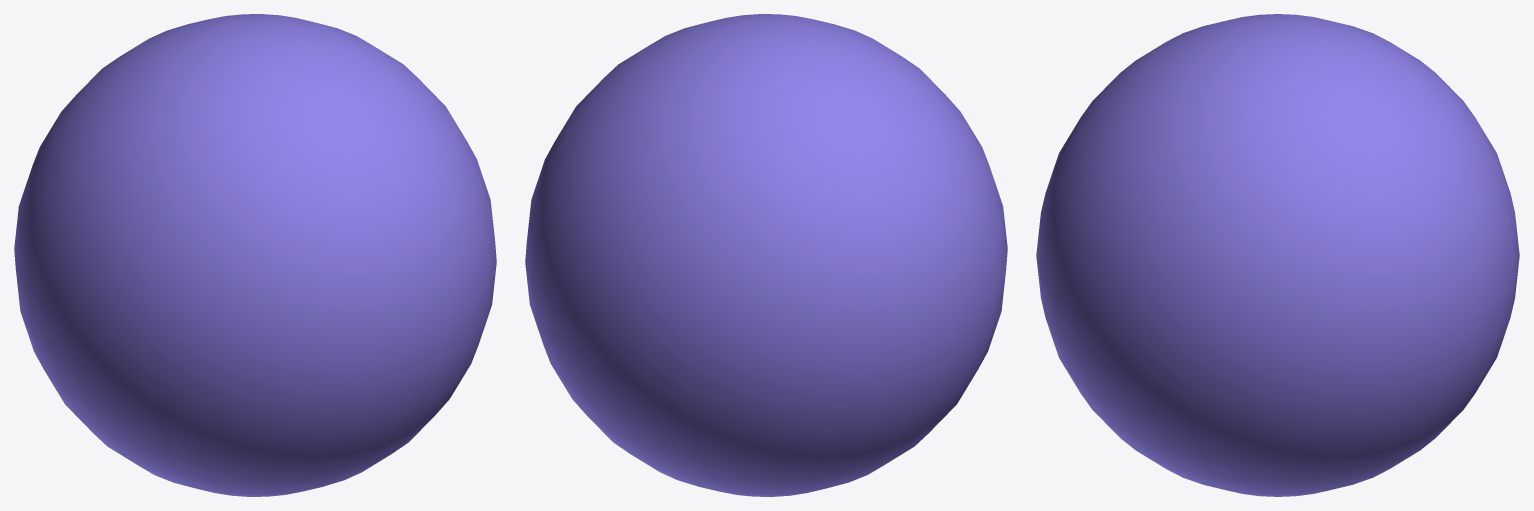
3 views of the same model, side by side, from view 1: azimuth 30°, elevation 25°; view 2: azimuth 150°, elevation 25°; view 3: azimuth 270°, elevation 25° (orthographic).
Parts seen in each view (by area): view 1: Sphere; view 2: Sphere; view 3: Sphere.
Boxes of the visible parts, bbox=[...] form: Sphere: bbox=[14, 14, 496, 496]; Sphere: bbox=[525, 14, 1007, 496]; Sphere: bbox=[1036, 14, 1519, 496].
Bounding box in the file's own units: 200 × 200 × 200.
